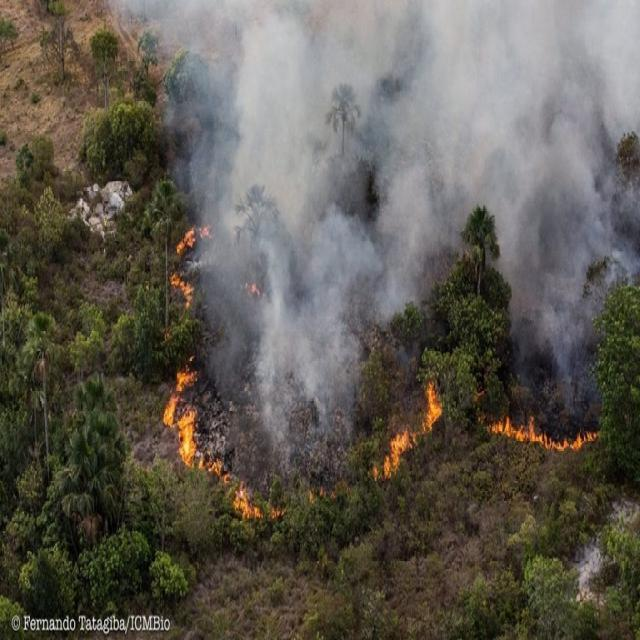Fire: (165, 380, 282, 531), (370, 392, 444, 484), (488, 404, 603, 456), (166, 276, 198, 310), (178, 218, 208, 252)
Smoke: (133, 10, 633, 428)
